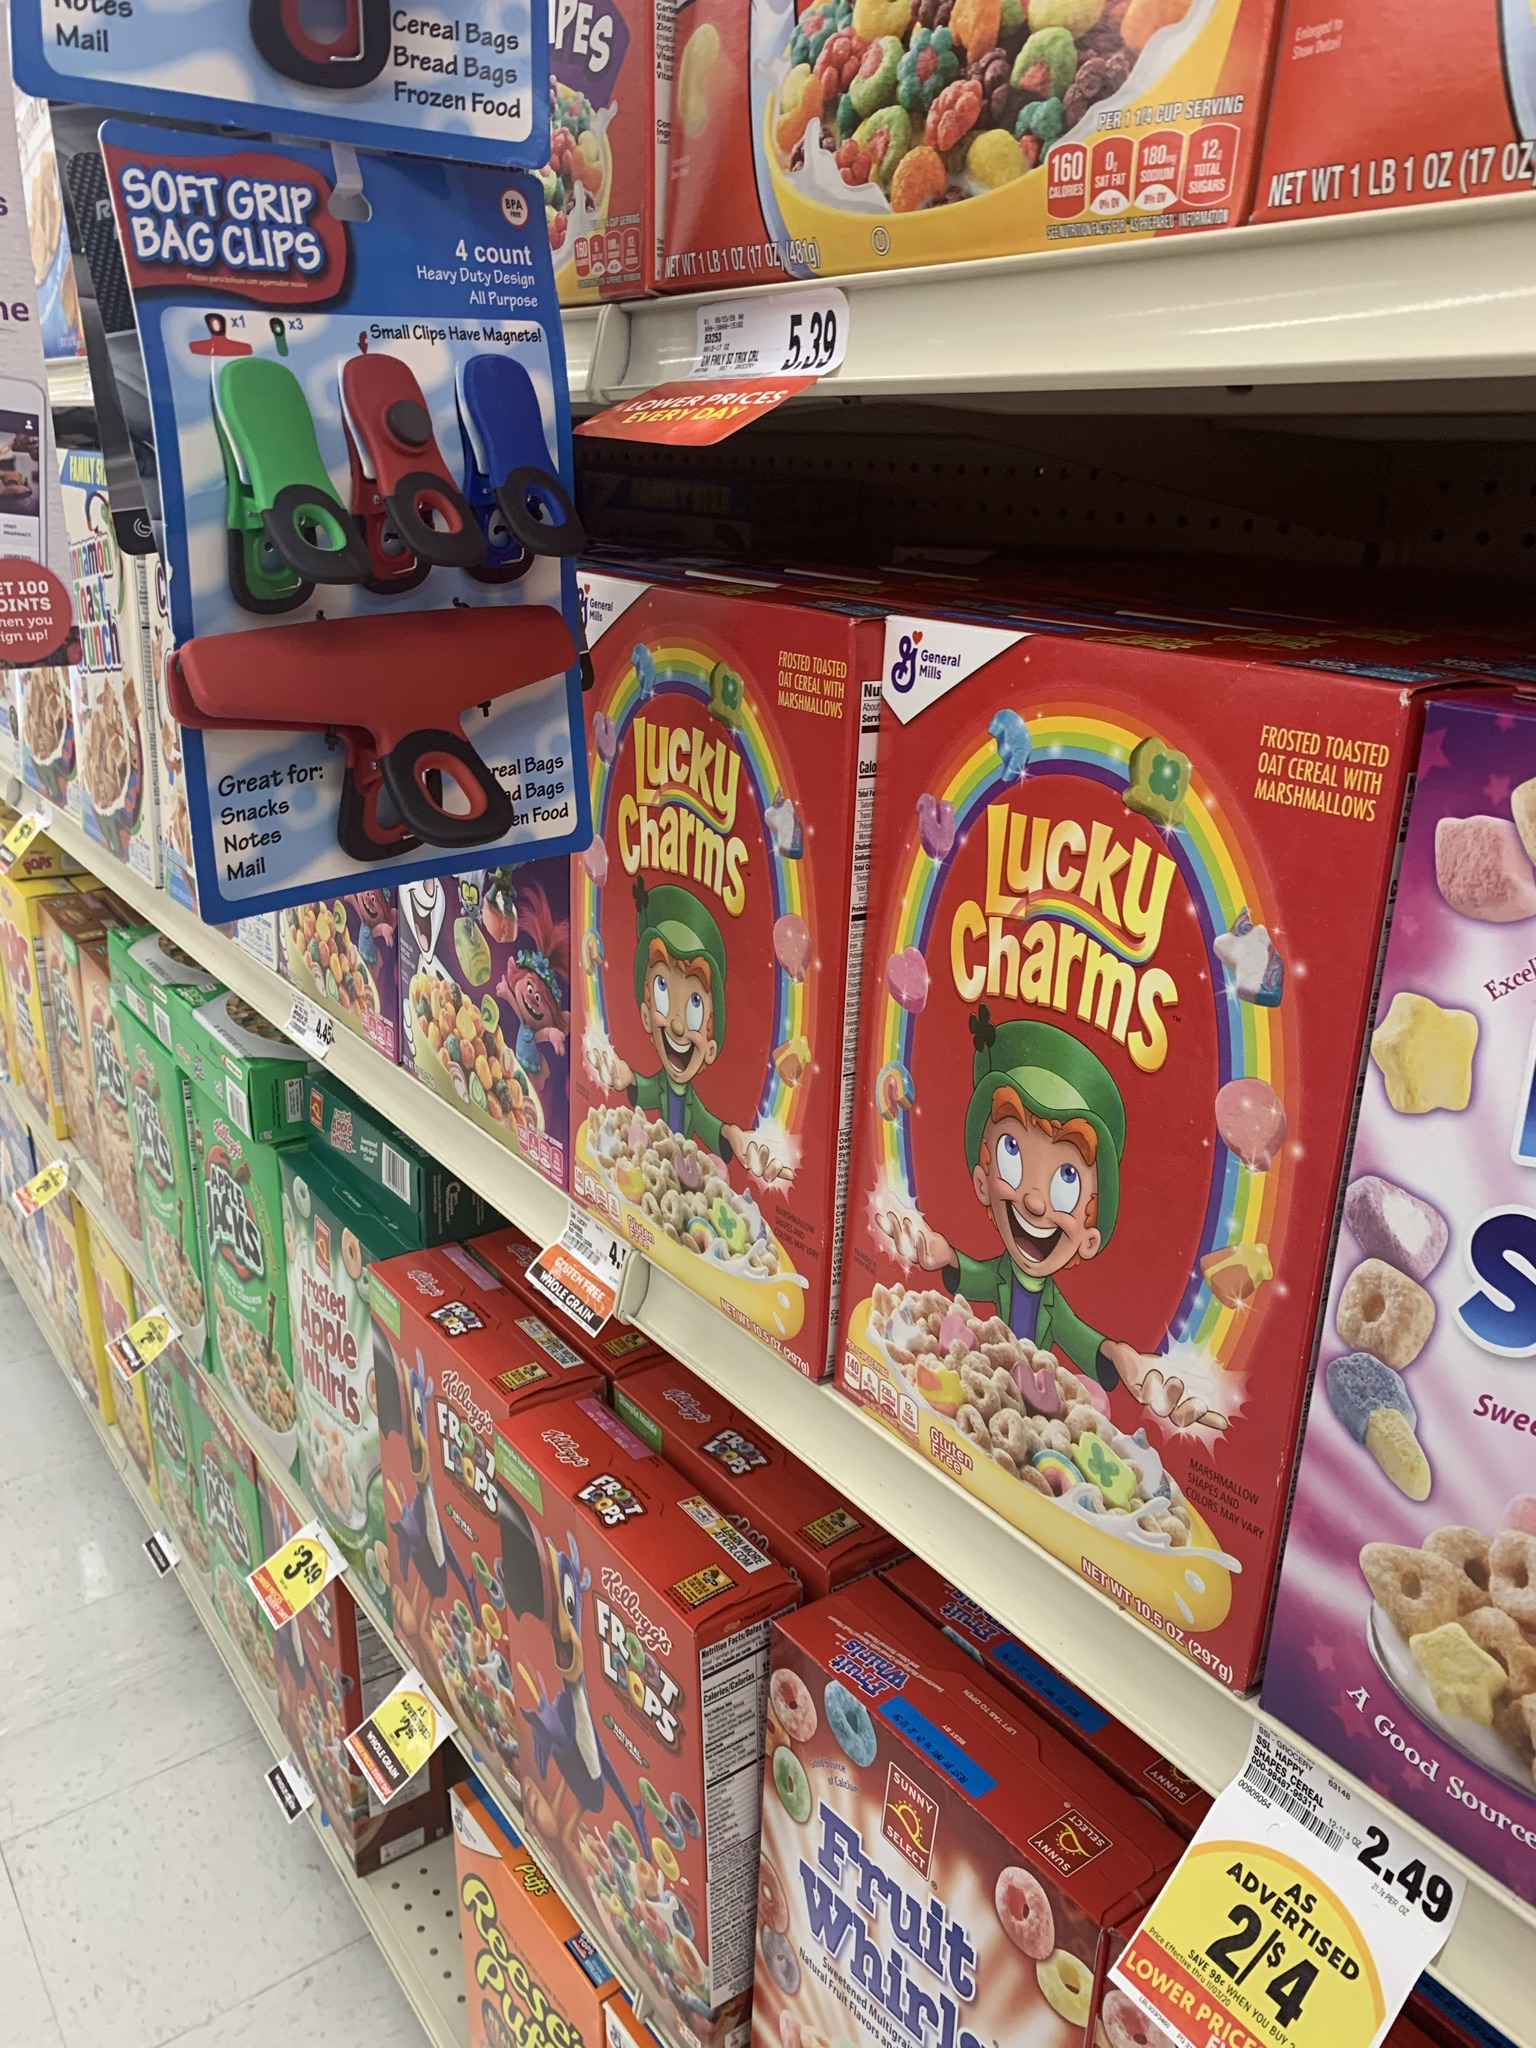box: (902, 653, 1283, 1471), (587, 618, 824, 1222), (778, 1730, 1062, 2048), (510, 1513, 723, 1840), (376, 1364, 495, 1614), (278, 1230, 357, 1464), (203, 1155, 278, 1376)
